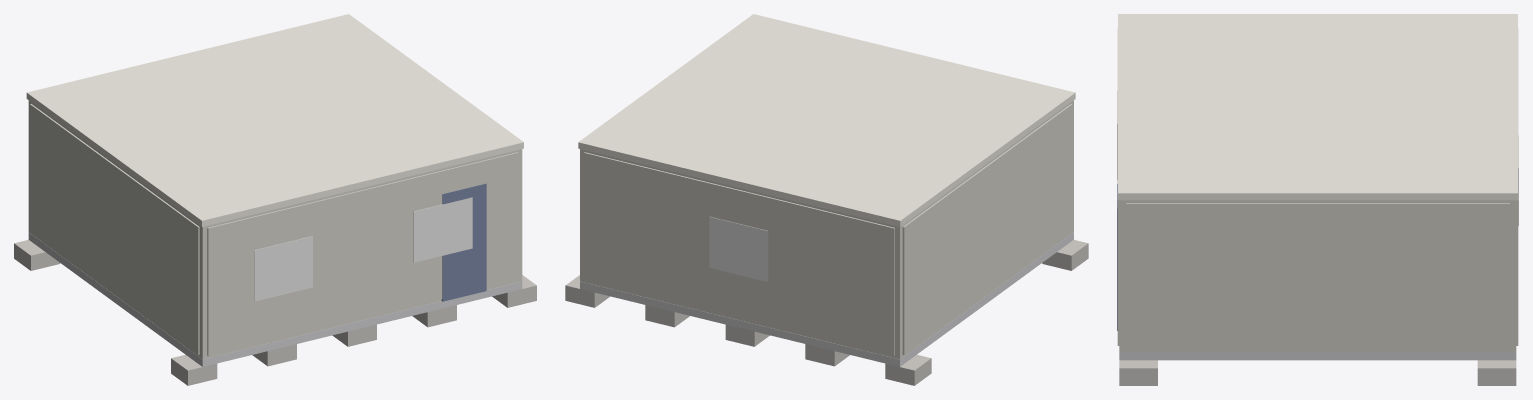
Rendered from Studio-20-Base-IvoryWhite-LOD3.glb.
3 views of the same model, side by side, from view 1: azimuth 30°, elevation 25°; view 2: azimuth 150°, elevation 25°; view 3: azimuth 270°, elevation 25° (orthographic). The views are drawn at different scales.
Visible parts, largest first — view 1: RoofMain, ExteriorPanelsStandard, WindowsStandard, FoundationBlocks, ExteriorShell, BaseFrame, EntryDoor; view 2: ExteriorPanelsStandard, RoofMain, FoundationBlocks, BaseFrame, ExteriorShell, WindowsStandard; view 3: RoofMain, ExteriorPanelsStandard, ExteriorShell, BaseFrame, FoundationBlocks.
Boxes of the visible parts, <box> form: RoofMain: <box>26,14,523,226</box>; ExteriorPanelsStandard: <box>30,104,518,355</box>; WindowsStandard: <box>254,197,472,301</box>; FoundationBlocks: <box>14,240,536,385</box>; ExteriorShell: <box>28,100,522,359</box>; BaseFrame: <box>28,232,522,366</box>; EntryDoor: <box>441,183,486,301</box>; ExteriorPanelsStandard: <box>584,104,1072,355</box>; RoofMain: <box>578,14,1075,226</box>; FoundationBlocks: <box>565,240,1088,385</box>; BaseFrame: <box>580,232,1073,366</box>; ExteriorShell: <box>580,100,1073,359</box>; WindowsStandard: <box>709,216,768,281</box>; RoofMain: <box>1118,14,1517,200</box>; ExteriorPanelsStandard: <box>1117,28,1518,349</box>; ExteriorShell: <box>1119,200,1516,351</box>; BaseFrame: <box>1119,351,1516,360</box>; FoundationBlocks: <box>1119,360,1516,385</box>.
Bounding box in the file's own units: 7.14 × 3.17 × 6.24.
